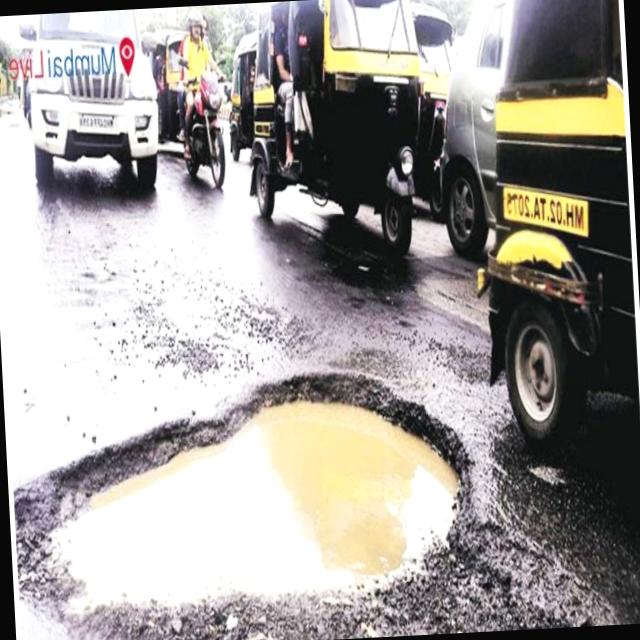bad-road: (3, 363, 478, 640)
